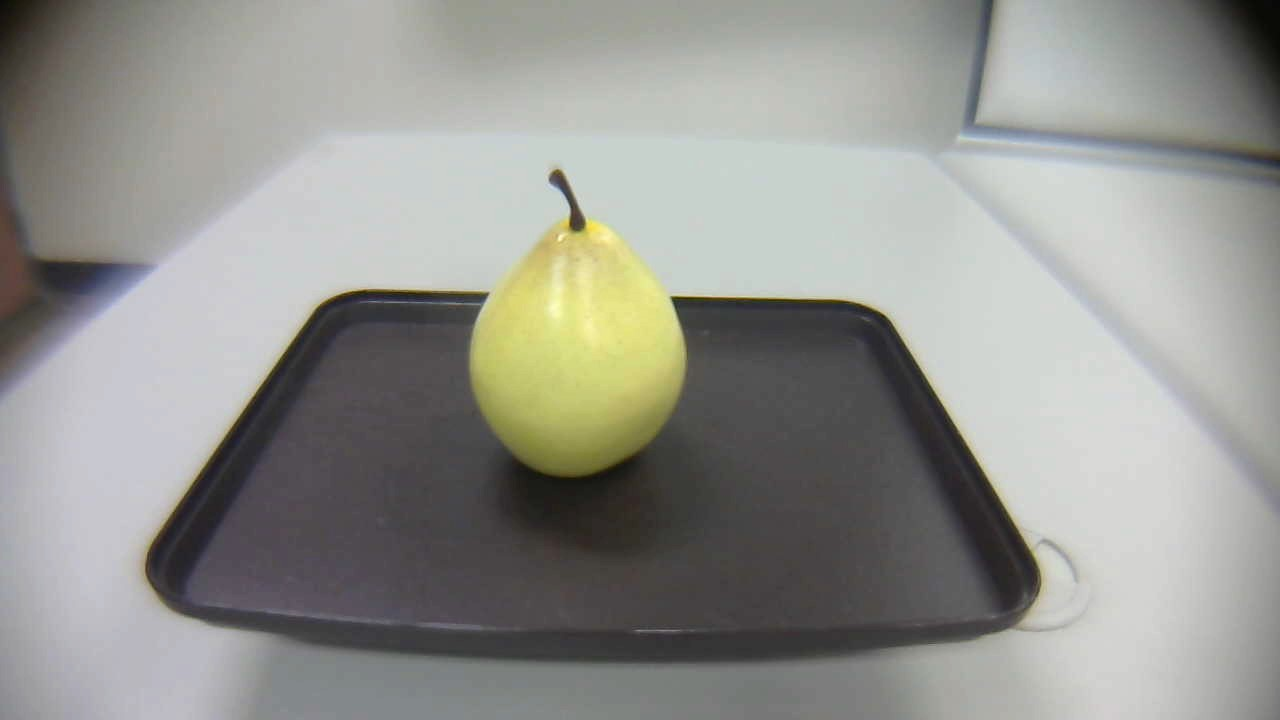western pear: (465, 171, 691, 487)
